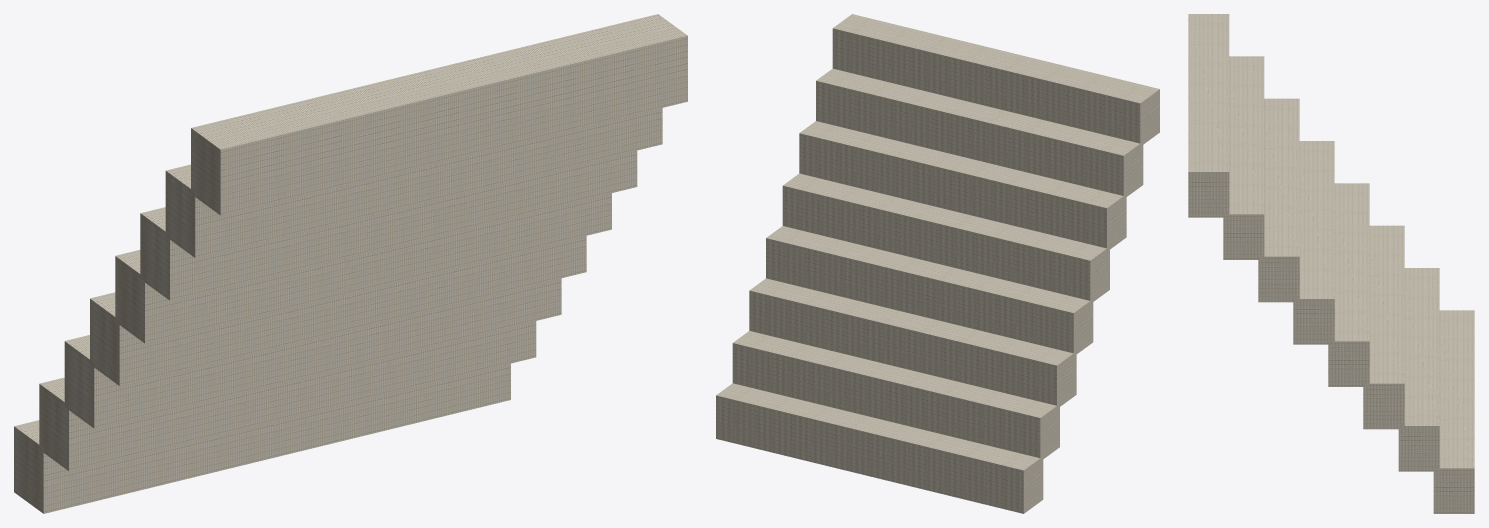
The model's file is stairs.glb.
3 renders of one model, left to right at view 1: azimuth 30°, elevation 25°; view 2: azimuth 150°, elevation 25°; view 3: azimuth 270°, elevation 25°, orthographic. The views are drawn at different scales.
Visible parts, largest first — view 1: stairs; view 2: stairs; view 3: stairs.
Part boxes in pixels (left/top/right/bottom): stairs: left=14, top=14, right=687, bottom=513; stairs: left=716, top=14, right=1159, bottom=513; stairs: left=1188, top=14, right=1474, bottom=513.
Size of the model in its own units: 4 by 4.04 by 3.07.
Materials: 1 (1 with a texture image).
